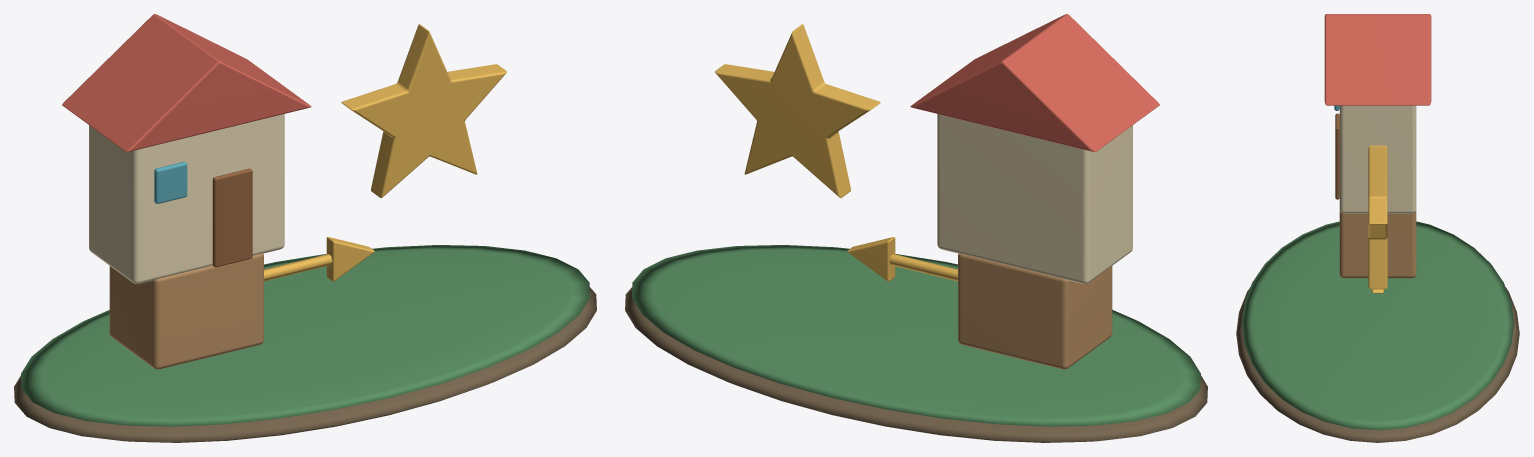
Rendered from complete-first-as-soon-capital.glb.
3 renders of one model, left to right at view 1: azimuth 30°, elevation 25°; view 2: azimuth 150°, elevation 25°; view 3: azimuth 270°, elevation 25°, orthographic. The views are drawn at different scales.
Parts seen in each view (by area): view 1: complete-first-as-soon-capital_surface_01, complete-first-as-soon-capital_surface_02, complete-first-as-soon-capital_surface_03, complete-first-as-soon-capital_surface_07, complete-first-as-soon-capital_surface_06, complete-first-as-soon-capital_surface_00, complete-first-as-soon-capital_surface_04, complete-first-as-soon-capital_surface_05; view 2: complete-first-as-soon-capital_surface_01, complete-first-as-soon-capital_surface_02, complete-first-as-soon-capital_surface_03, complete-first-as-soon-capital_surface_07, complete-first-as-soon-capital_surface_06, complete-first-as-soon-capital_surface_00; view 3: complete-first-as-soon-capital_surface_01, complete-first-as-soon-capital_surface_03, complete-first-as-soon-capital_surface_02, complete-first-as-soon-capital_surface_00, complete-first-as-soon-capital_surface_06, complete-first-as-soon-capital_surface_07, complete-first-as-soon-capital_surface_04.
Part boxes in pixels (box(x1,y1,x2,y2)): complete-first-as-soon-capital_surface_01: box(21, 245, 589, 426); complete-first-as-soon-capital_surface_02: box(89, 114, 284, 284); complete-first-as-soon-capital_surface_03: box(62, 14, 311, 151); complete-first-as-soon-capital_surface_07: box(264, 24, 506, 281); complete-first-as-soon-capital_surface_06: box(109, 253, 263, 369); complete-first-as-soon-capital_surface_00: box(14, 287, 596, 442); complete-first-as-soon-capital_surface_04: box(212, 168, 252, 267); complete-first-as-soon-capital_surface_05: box(154, 162, 187, 203); complete-first-as-soon-capital_surface_01: box(632, 245, 1200, 426); complete-first-as-soon-capital_surface_02: box(937, 114, 1132, 284); complete-first-as-soon-capital_surface_03: box(910, 14, 1159, 151); complete-first-as-soon-capital_surface_07: box(715, 24, 957, 281); complete-first-as-soon-capital_surface_06: box(958, 253, 1112, 369); complete-first-as-soon-capital_surface_00: box(625, 287, 1207, 442); complete-first-as-soon-capital_surface_01: box(1242, 221, 1513, 430); complete-first-as-soon-capital_surface_03: box(1324, 14, 1431, 105); complete-first-as-soon-capital_surface_02: box(1339, 105, 1416, 213); complete-first-as-soon-capital_surface_00: box(1236, 287, 1519, 442); complete-first-as-soon-capital_surface_06: box(1339, 210, 1416, 278); complete-first-as-soon-capital_surface_07: box(1368, 145, 1387, 293); complete-first-as-soon-capital_surface_04: box(1335, 113, 1339, 199).
Size of the model in its own units: 4.56 by 2.78 by 2.5.
